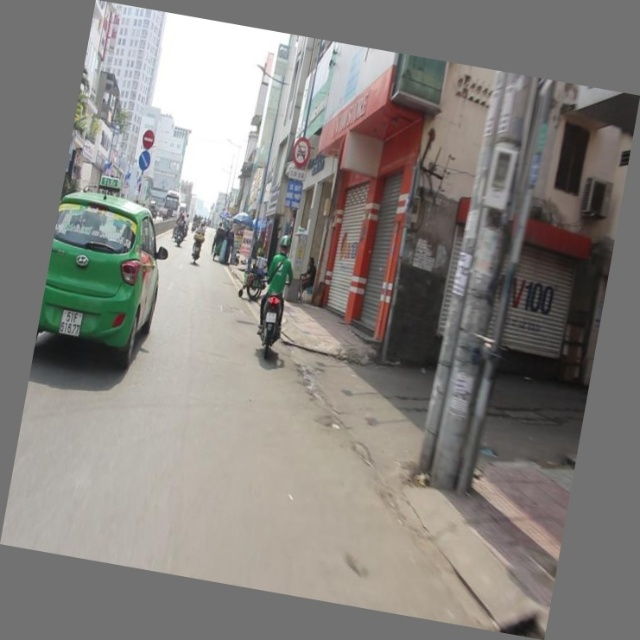I.407a: (140, 127, 156, 152)
P.103a: (289, 134, 314, 168)
R.302a: (137, 151, 153, 172)
